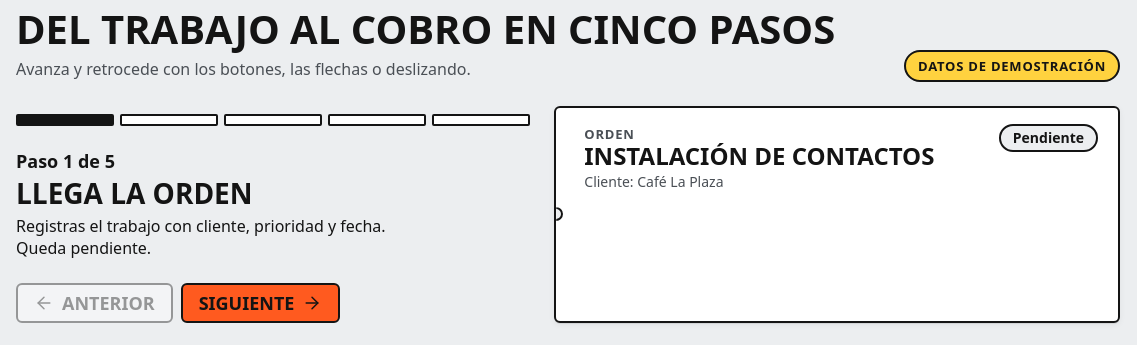
Test case: FlowDemo › Siguiente avanza y muestra el responsable en el paso 2
Click the button "Siguiente" at (261, 303), box 181,283 -> 340,323
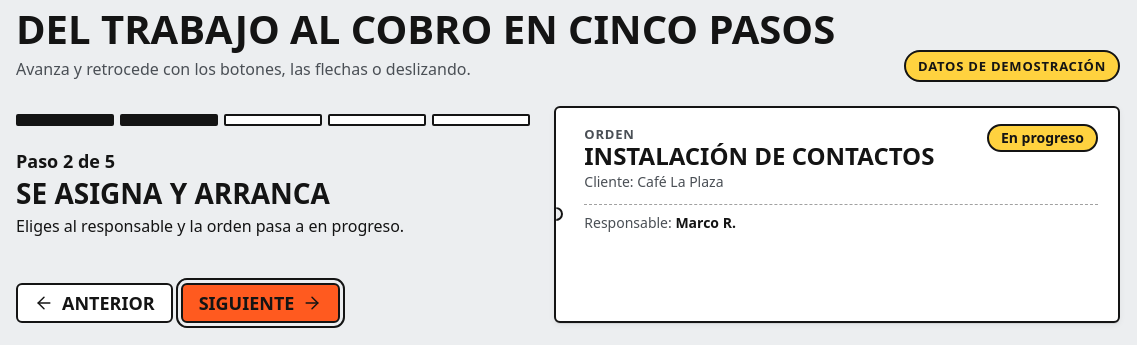
expect the text "Se asigna y arranca" is shown: met, box 16,174 -> 330,212
expect the text "Marco R." is shown: met, box 675,213 -> 736,232
expect the button "Anterior" is enabled: met, box 16,283 -> 173,323
